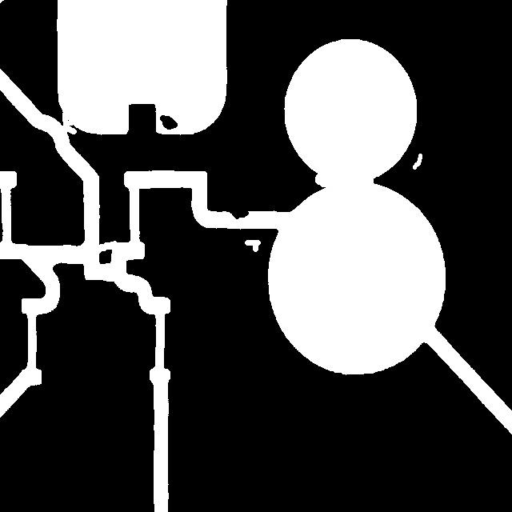copper: (152, 107, 185, 137)
mousebite: (307, 164, 342, 194)
open: (52, 103, 84, 142), (87, 233, 126, 261)
pin-hole: (237, 232, 268, 259), (405, 146, 430, 177)
spur: (222, 199, 256, 226)
